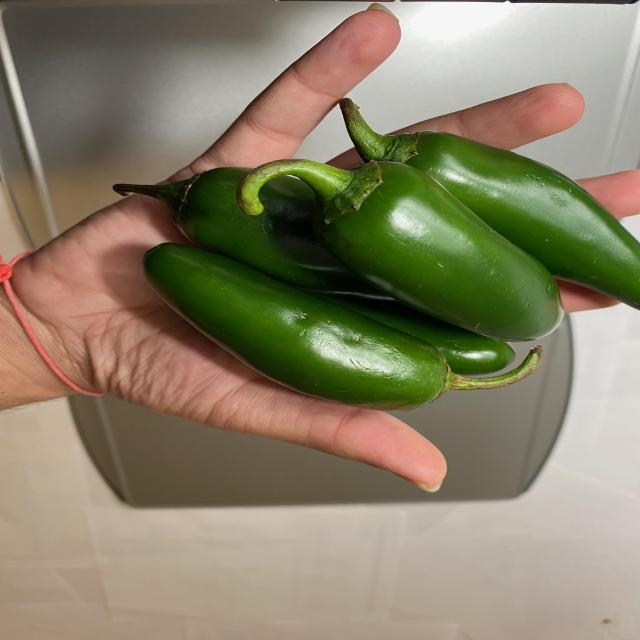chilli: (110, 103, 640, 419)
